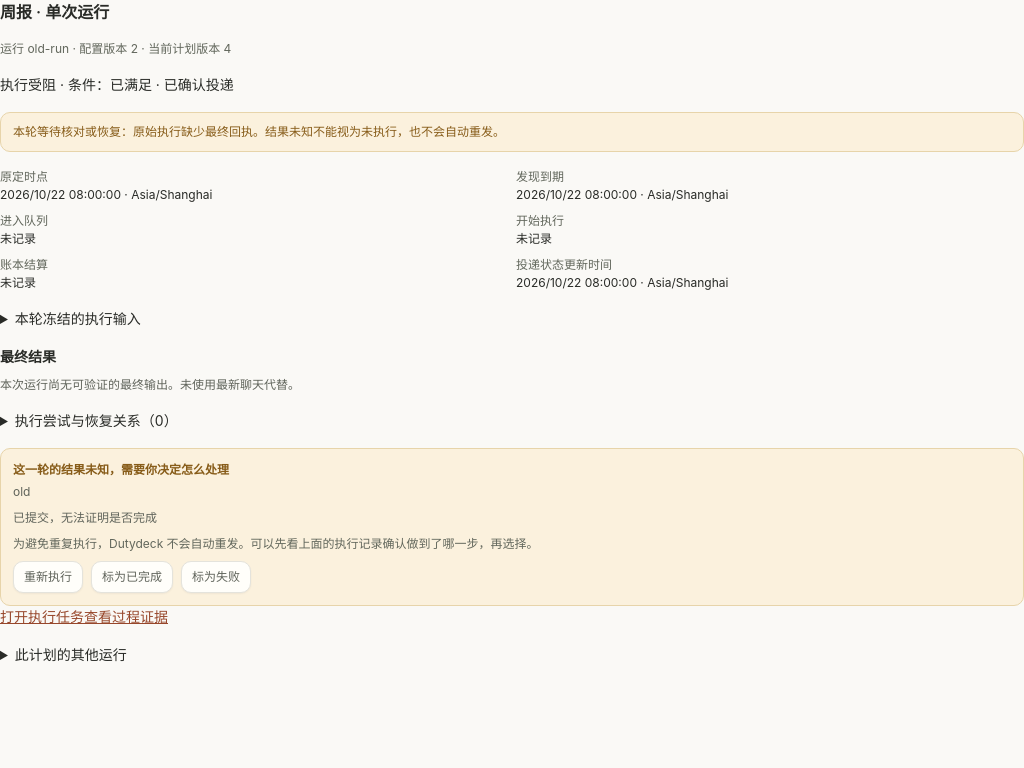
Test: one automation run › keeps the original unknown fact and exposes only the exact task recovery panel without replay
Expected: the element named "结果未知：old" is shown, [0,448,1023,606]
Expected: the text "本轮等待核对或恢复：原始执行缺少最终回执。结果未知不能视为未执行，也不会自动重发。" is shown, [13,124,505,139]
Click the button "重新执行" at (48, 577), box [13,561,83,593]
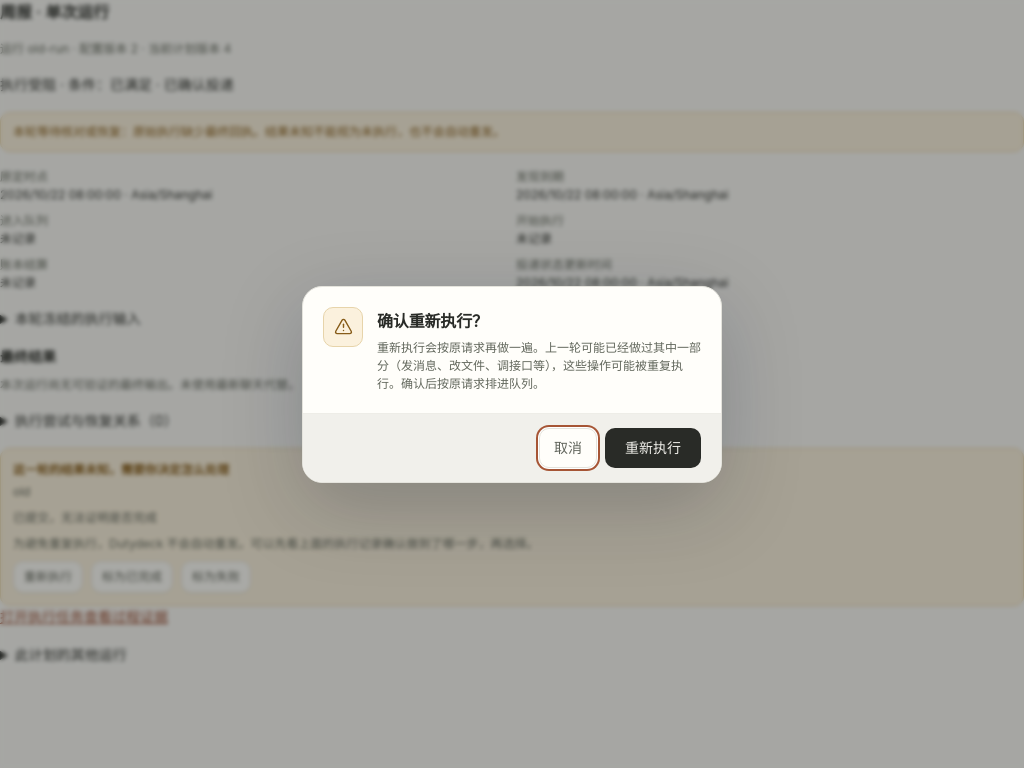
Expected: the dialog "确认重新执行？" is shown, [302,286,722,482]
